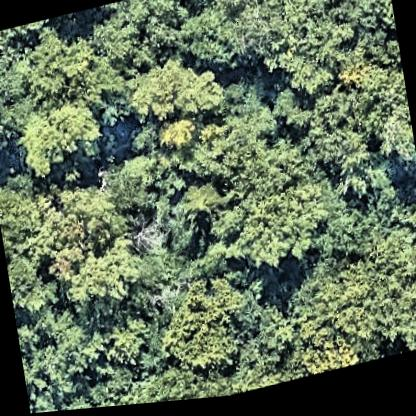tree-top: (283, 240, 416, 377), (213, 166, 341, 288), (299, 80, 391, 187), (155, 278, 249, 382), (0, 21, 102, 116), (12, 92, 107, 185), (264, 11, 354, 108), (186, 103, 280, 191), (128, 49, 223, 135), (17, 316, 99, 415), (40, 176, 124, 268), (93, 0, 190, 77), (63, 240, 144, 320), (109, 360, 241, 408), (108, 143, 188, 221), (134, 195, 214, 268), (363, 79, 416, 182), (0, 170, 55, 261), (318, 199, 392, 266), (342, 0, 401, 81), (92, 313, 158, 383), (214, 0, 285, 63), (9, 269, 63, 326), (174, 180, 229, 233), (152, 117, 199, 160), (0, 18, 52, 54), (308, 0, 385, 19), (401, 191, 416, 261)
